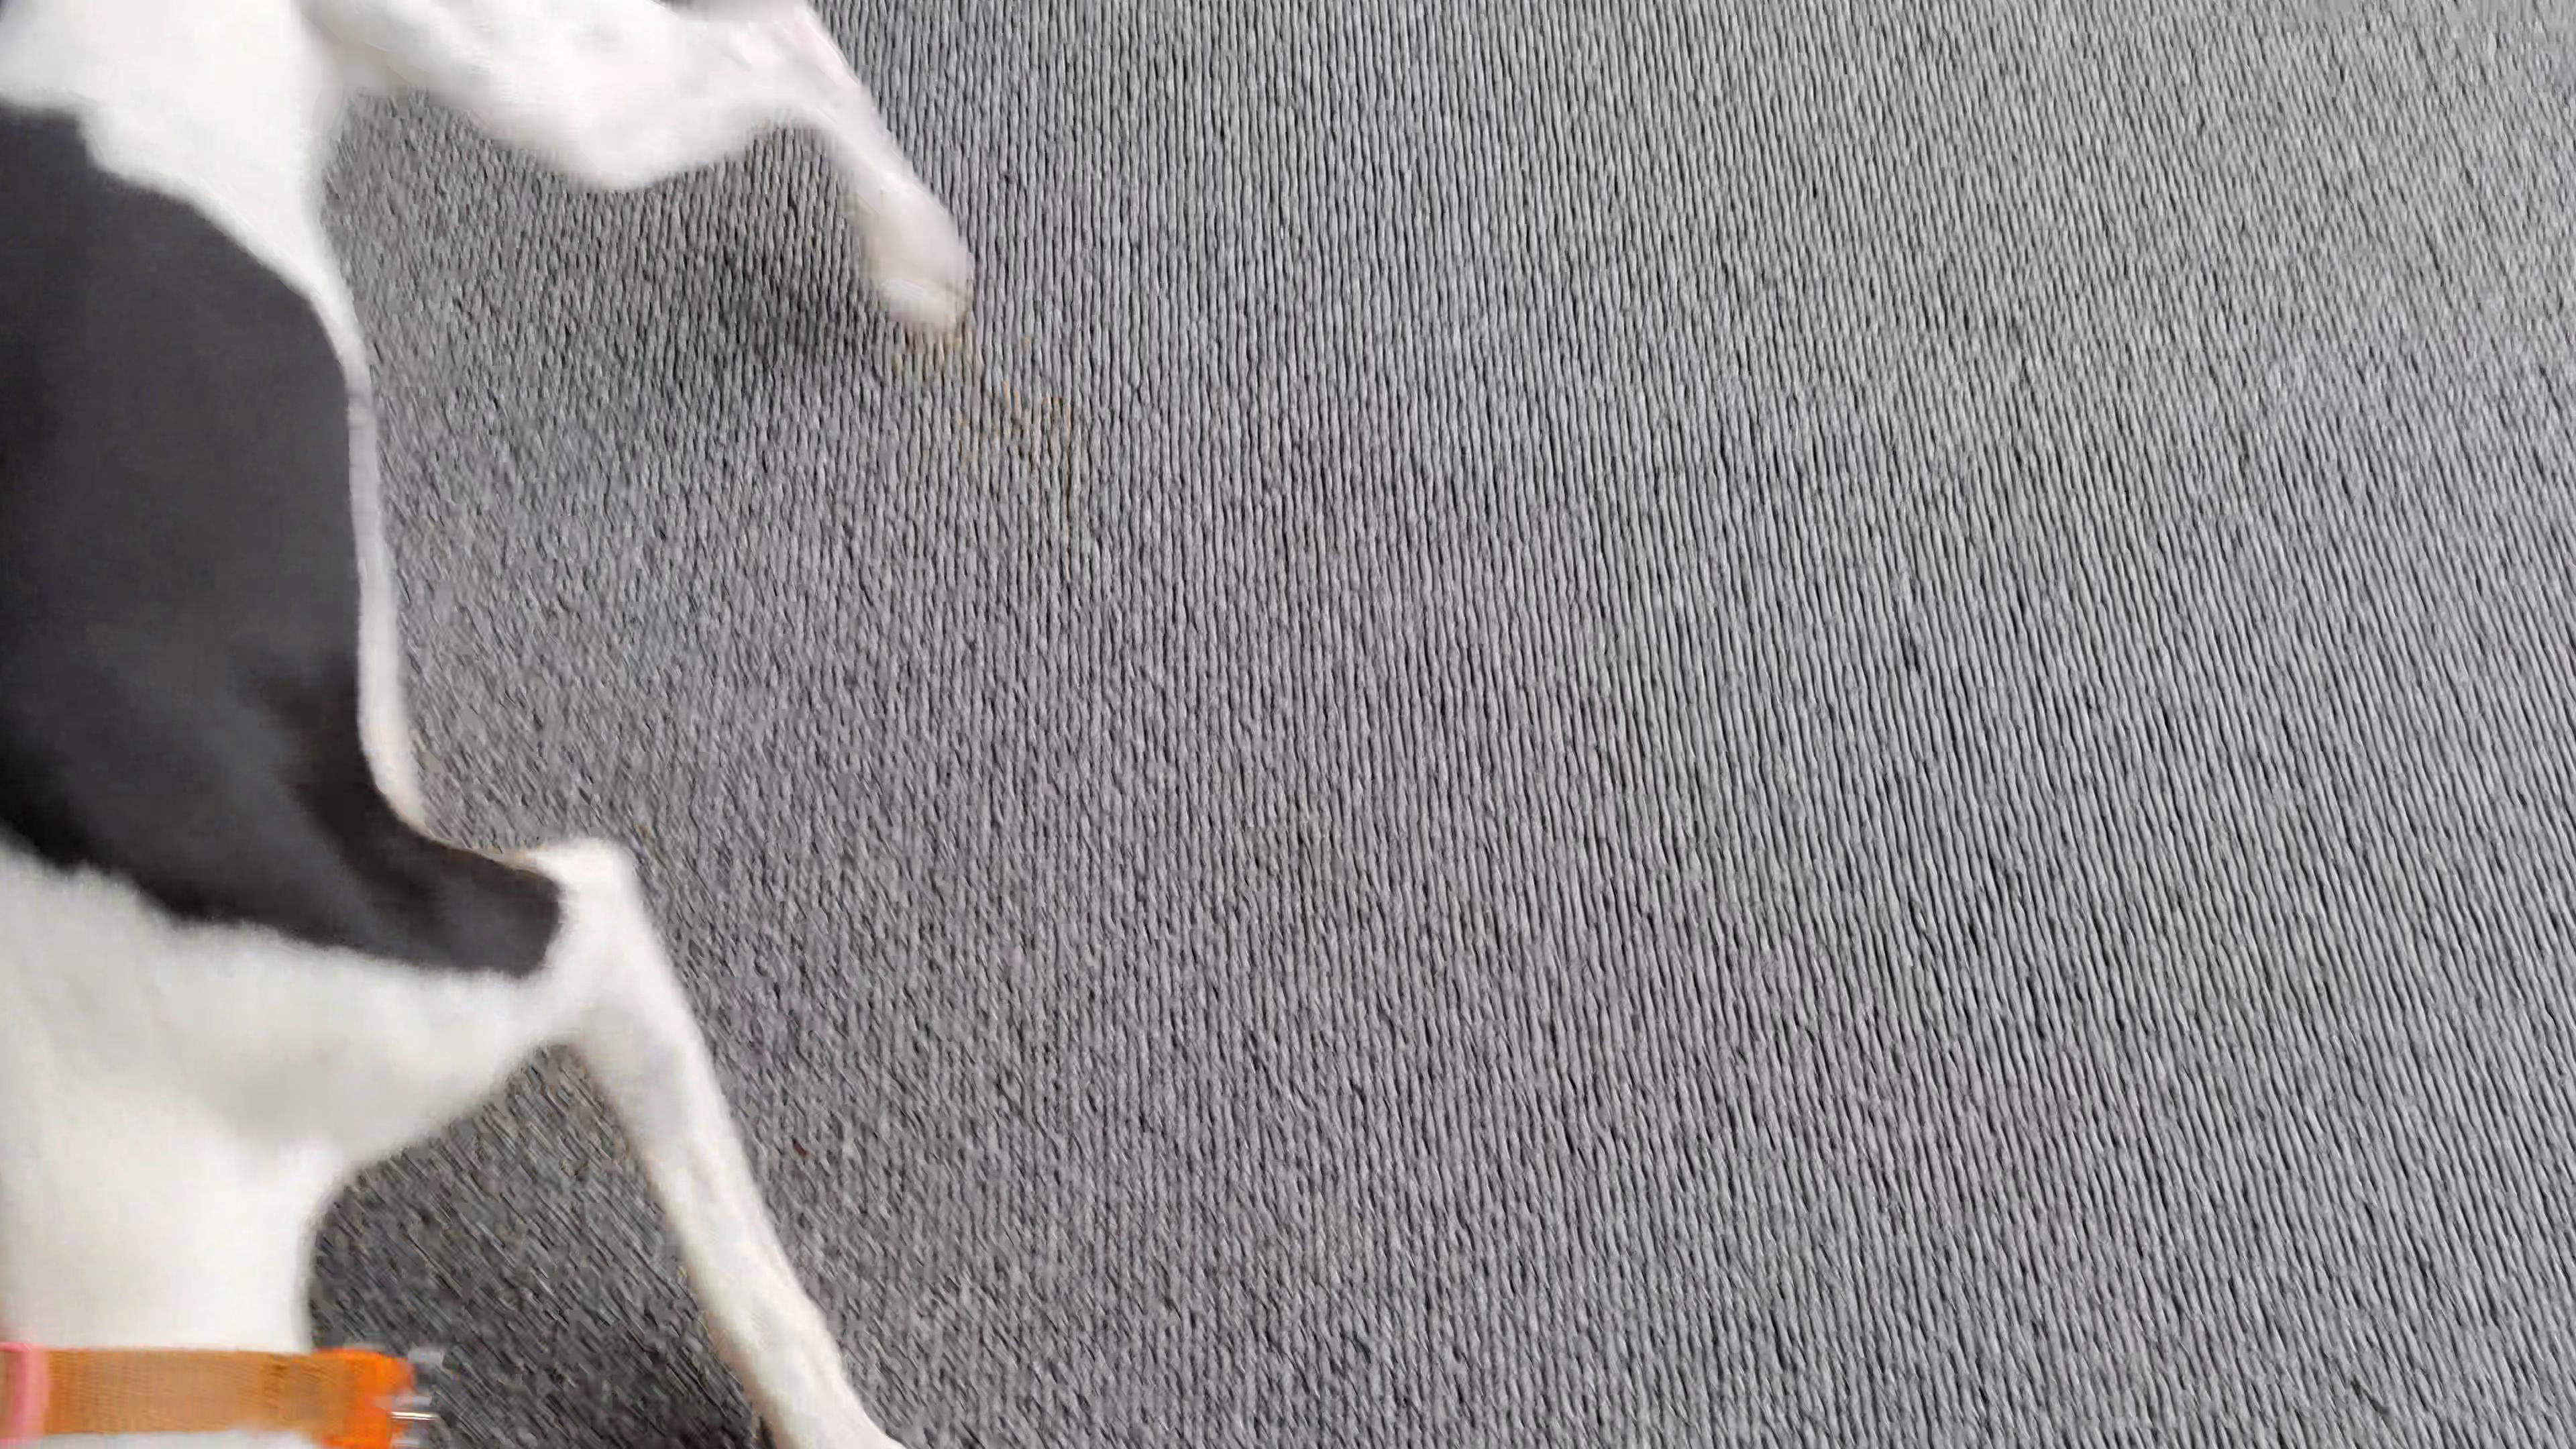Dog: (0, 0, 989, 1449)
